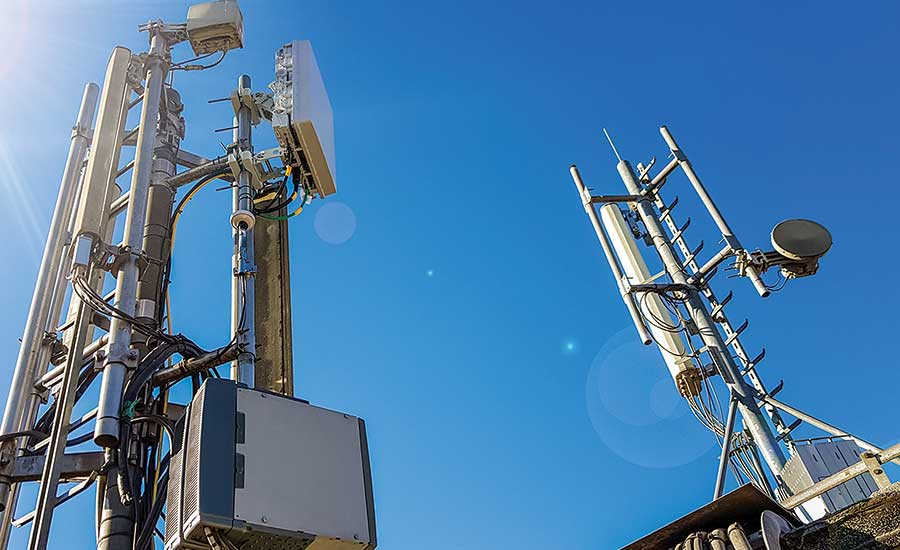ba: (767, 200, 833, 283)
sa: (588, 182, 699, 400)
